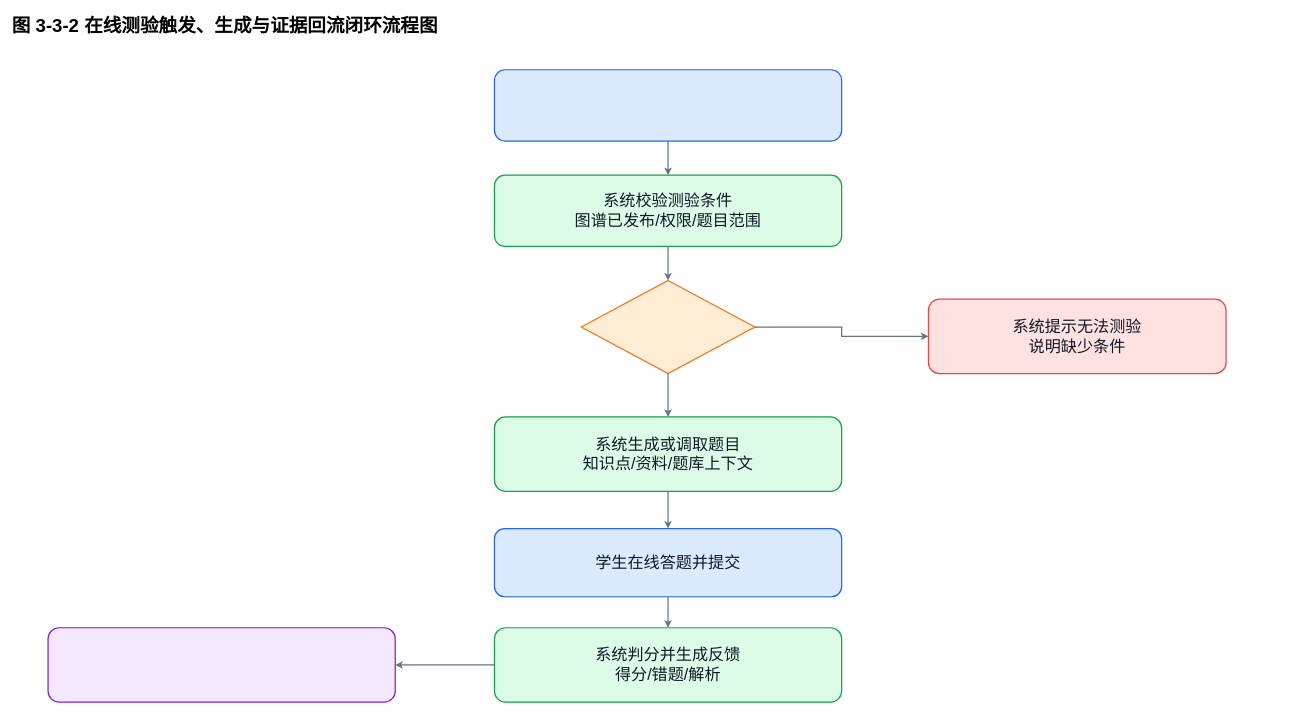
Some shapes in this 1311 by 713 pixel diagram are drawn without their labels. The shapes that lost their labels are listed below. From the top down, each one's centre as x and y in pixels, then its label:
At (x=668, y=105): "学生触发测验 知识点页/路径/干预任务".
At (x=667, y=327): "条件是否满足".
At (x=221, y=664): "系统记录并回流证据 画像/诊断/路径/看板".
